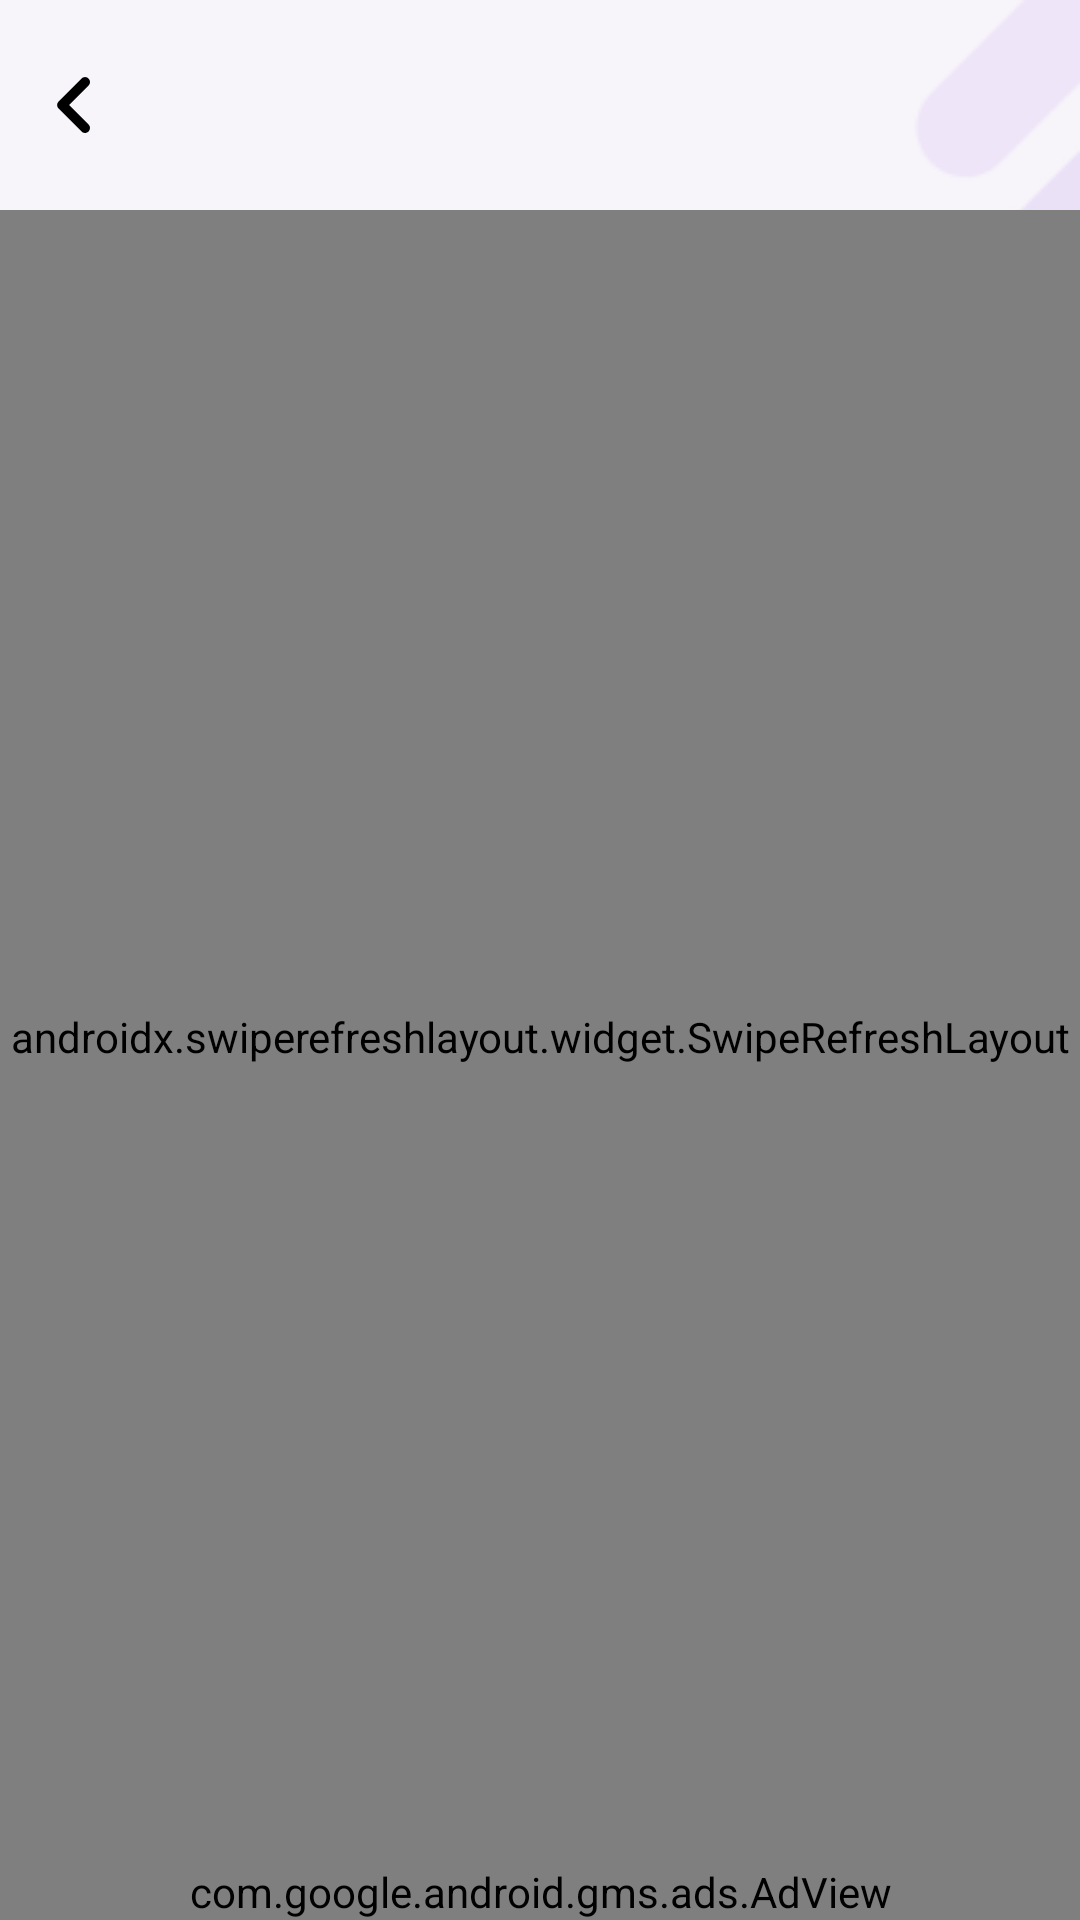

Screen size 1080*1920. Icon name, then its box in pixels as (x1,y1,x2,y2):
back: (57,77,90,133)
